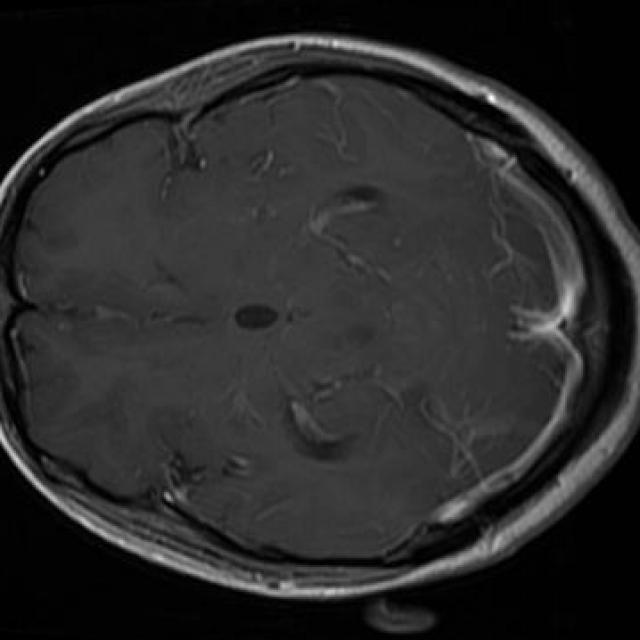glioma: (285, 396, 357, 462)
